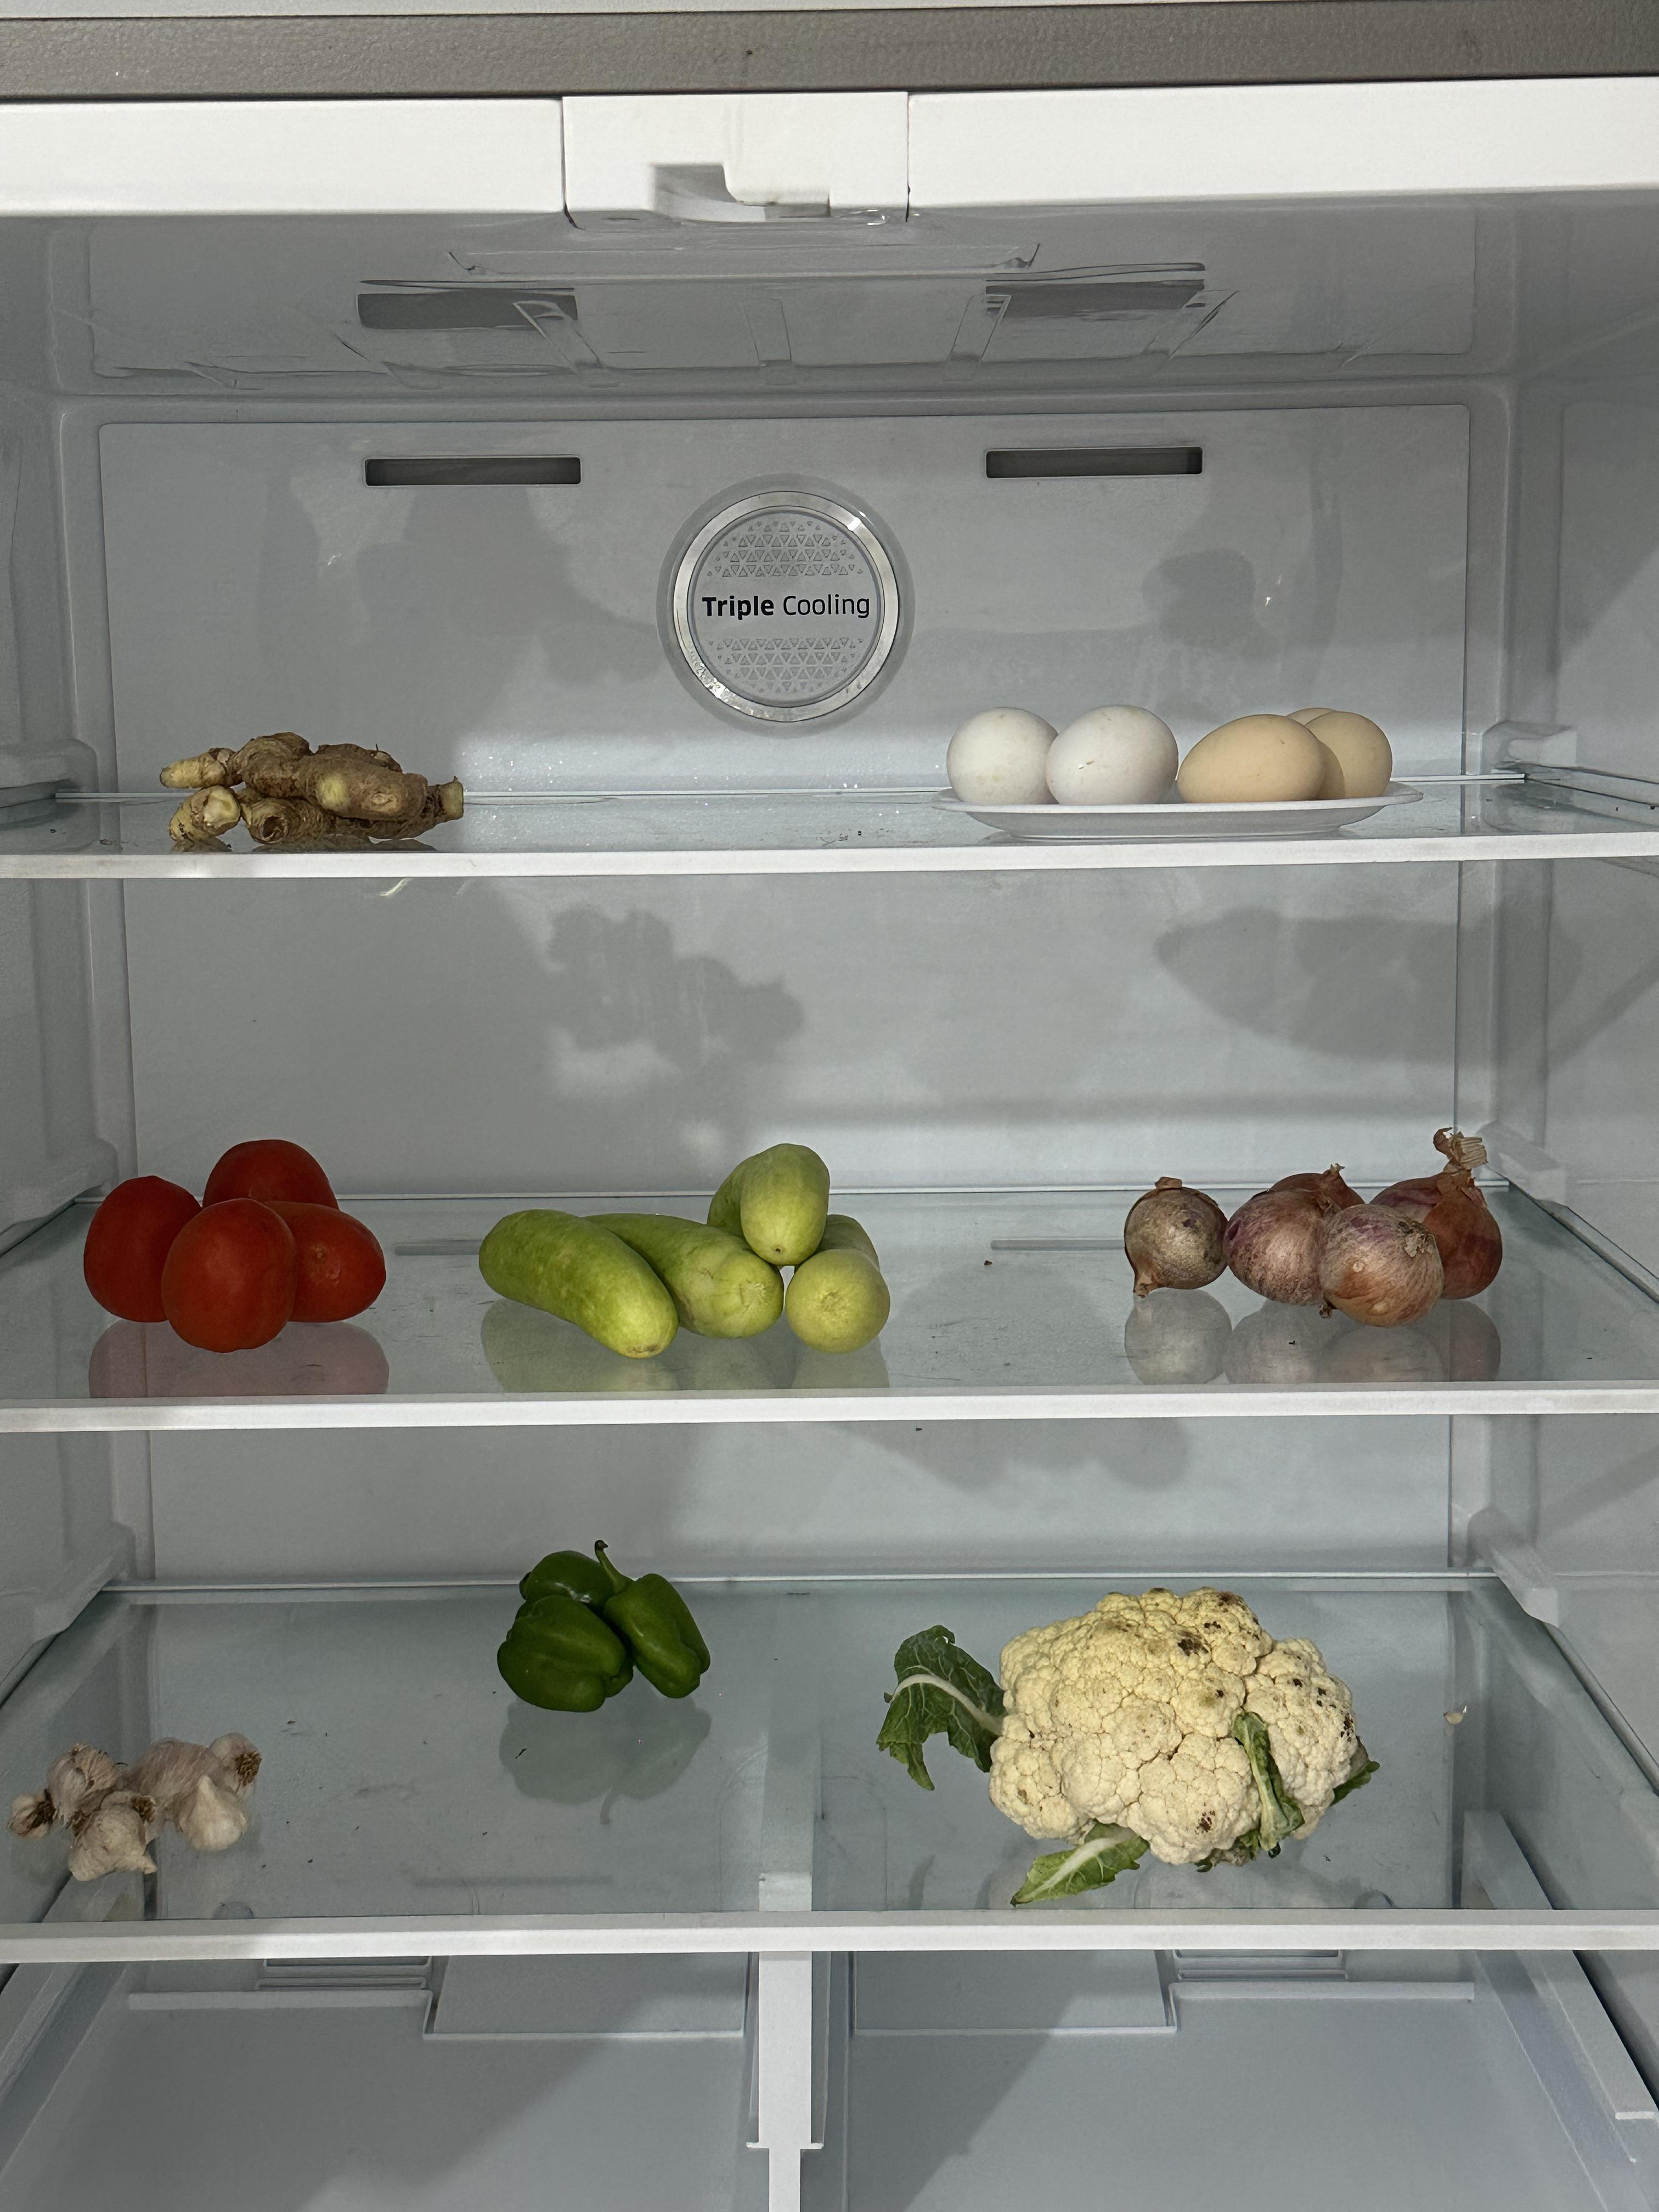capsicum: (491, 1547, 714, 1716)
cauliflower: (988, 1578, 1366, 1862)
cucumber: (483, 1143, 899, 1362)
egg: (948, 698, 1398, 810)
garlic: (19, 1728, 258, 1892)
ginger: (159, 728, 460, 852)
onion: (1119, 1151, 1500, 1324)
tomato: (82, 1127, 387, 1345)
